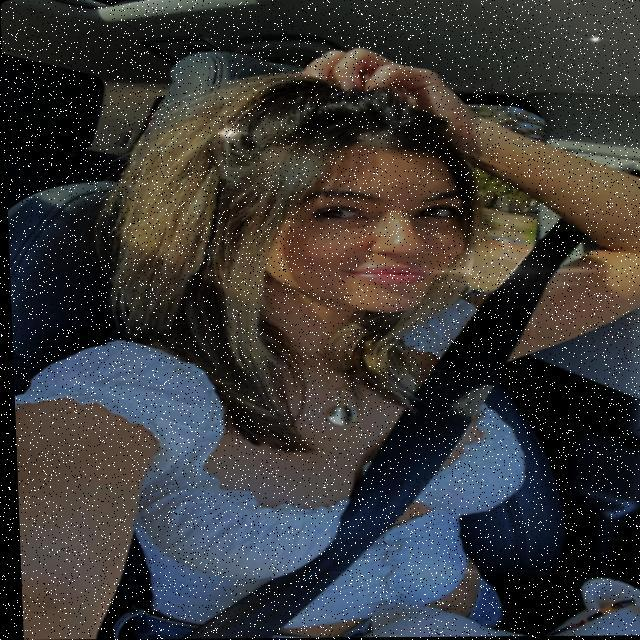seatbelt: (89, 284, 571, 639)
